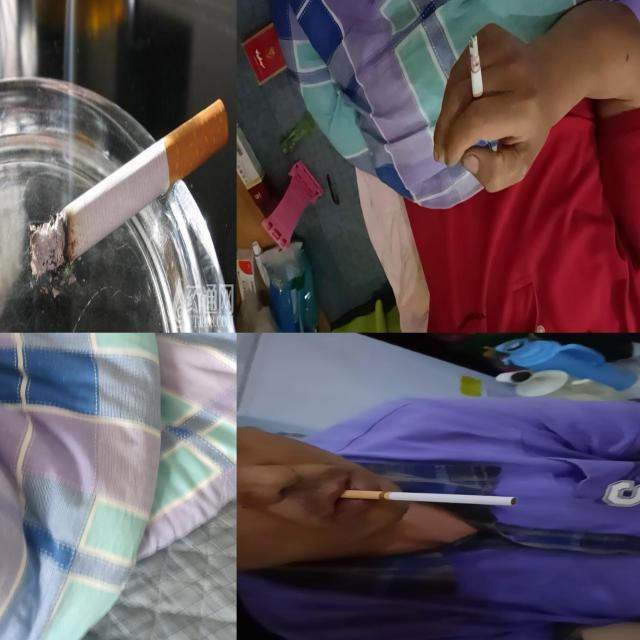smoke: (30, 96, 229, 279), (343, 489, 519, 506), (468, 32, 485, 114)
